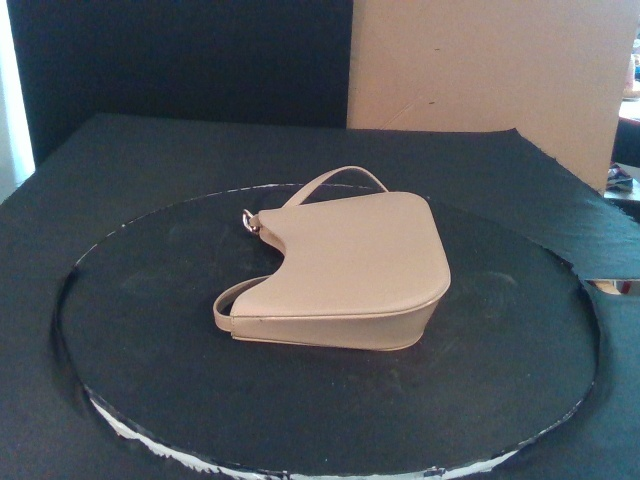bag: (227, 191, 452, 352)
